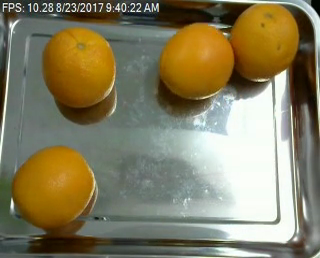Orange: (13, 146, 97, 228), (41, 27, 115, 107), (158, 22, 233, 100), (230, 3, 300, 82)
